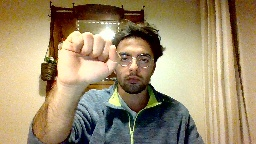Pugno: (54, 26, 121, 90)
